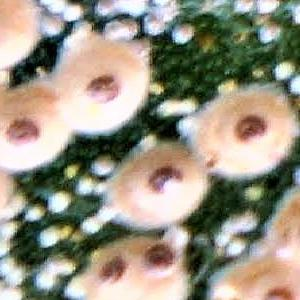Femea: (66, 53, 143, 128), (208, 96, 283, 166), (127, 153, 202, 219), (0, 91, 58, 158), (91, 242, 132, 287), (140, 238, 180, 275)
Linfa: (152, 97, 192, 117), (32, 260, 57, 290), (0, 261, 24, 289), (256, 22, 280, 48), (234, 210, 260, 233), (21, 197, 44, 222), (37, 14, 59, 39), (89, 152, 112, 174), (104, 20, 127, 42), (35, 225, 60, 245), (46, 192, 72, 211), (69, 174, 92, 194), (171, 25, 196, 43), (222, 235, 244, 254), (62, 4, 88, 20), (82, 213, 98, 237), (273, 60, 292, 80), (2, 215, 17, 239)
